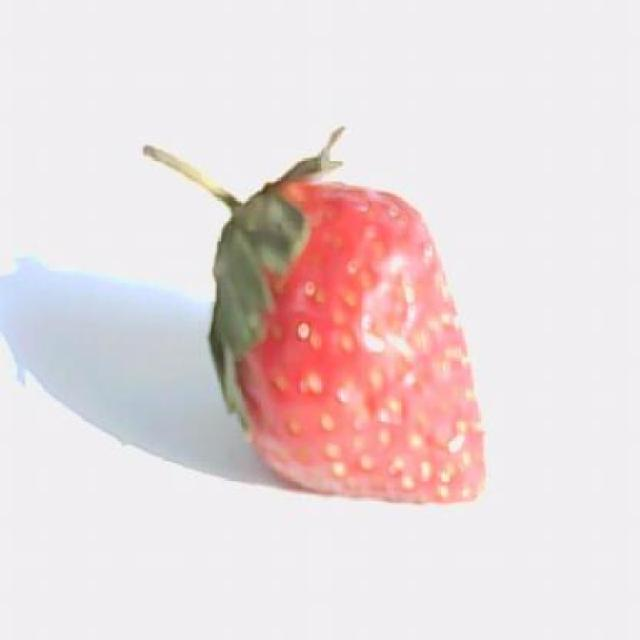strawberry: (146, 126, 484, 502)
